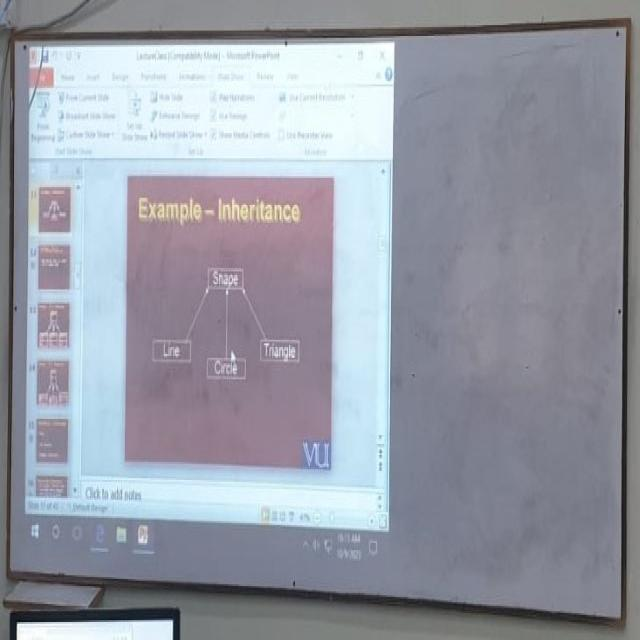Slide: (26, 39, 397, 571)
White-board: (10, 30, 631, 624)
